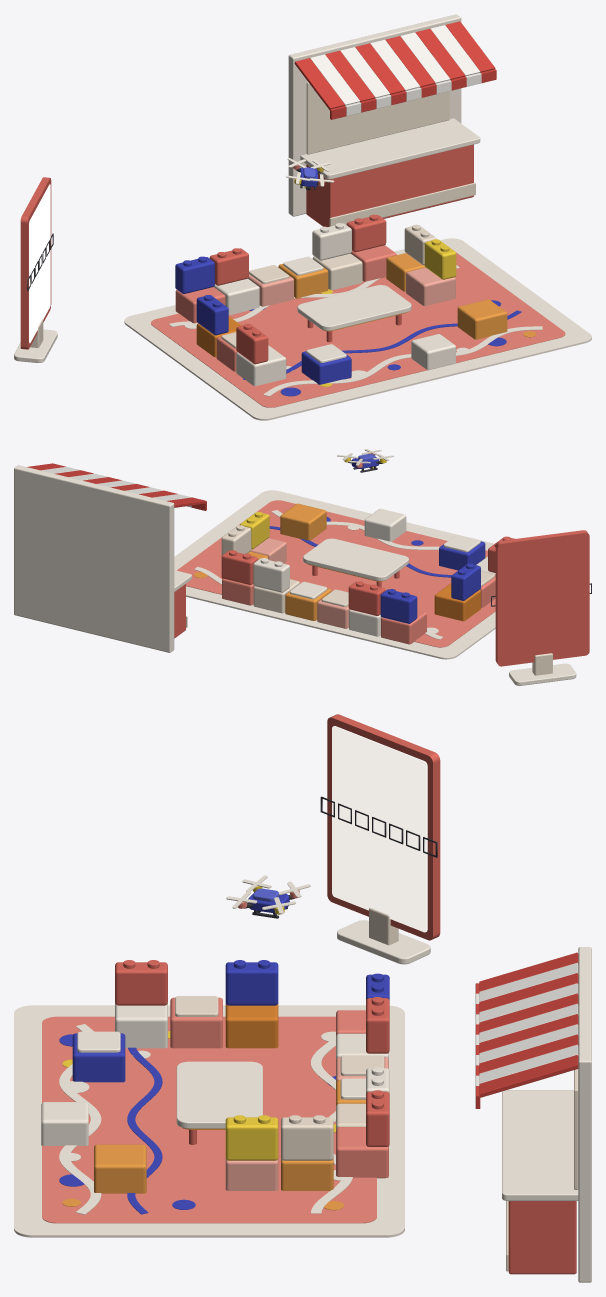
3 views of the same model, one above another, from view 1: azimuth 30°, elevation 25°; view 2: azimuth 150°, elevation 25°; view 3: azimuth 270°, elevation 25° (orthographic). The views are drawn at different scales.
Parts seen in each view (by area): view 1: Rug_Field.001, Rug_Base.001, Cafe_Counter.001, Cafe_BackPanel.001, Cafe_CounterTop.001, Cafe_Back.001, Tbl_Top.001, Scr_Panel.001, Scr_Frame.001, Cafe_Skirt.001, S_p2.001, E_s1.001 (+34 smaller); view 2: Cafe_Back.001, Scr_Frame.001, Rug_Field.001, Rug_Base.001, Tbl_Top.001, S_p2.001, W_s2.001, S_p1.001, N_b5.001, N_s0.001, N_b265.001, N_b70.001 (+19 smaller); view 3: Rug_Field.001, Rug_Base.001, Scr_Panel.001, Cafe_CounterTop.001, Tbl_Top.001, Scr_Frame.001, Cafe_Counter.001, Cafe_Back.001, S_p2.001, W_s2.001, N_s5.001, W_b2.001 (+32 smaller).
Boxes of the visible parts, x1,y1,x2,y2 form: Rug_Field.001: [151, 252, 565, 407]; Rug_Base.001: [124, 238, 591, 420]; Cafe_Counter.001: [306, 144, 473, 226]; Cafe_BackPanel.001: [306, 82, 449, 154]; Cafe_CounterTop.001: [300, 118, 480, 179]; Cafe_Back.001: [288, 14, 461, 216]; Tbl_Top.001: [297, 285, 411, 330]; Scr_Panel.001: [29, 184, 50, 343]; Scr_Frame.001: [20, 177, 51, 349]; Cafe_Skirt.001: [329, 182, 475, 226]; S_p2.001: [457, 299, 507, 339]; E_s1.001: [406, 267, 455, 305]; Cafe_Back.001: [14, 465, 174, 652]; Scr_Frame.001: [495, 530, 589, 666]; Rug_Field.001: [177, 500, 495, 647]; Rug_Base.001: [174, 490, 495, 659]; Tbl_Top.001: [303, 538, 408, 580]; S_p2.001: [280, 503, 326, 540]; W_s2.001: [434, 583, 480, 621]; S_p1.001: [364, 508, 406, 541]; N_b5.001: [380, 589, 417, 623]; N_s0.001: [381, 610, 426, 644]; N_b265.001: [253, 558, 289, 592]; N_b70.001: [348, 581, 385, 615]; Rug_Field.001: [42, 1016, 376, 1223]; Rug_Base.001: [14, 1005, 404, 1237]; Scr_Panel.001: [332, 726, 427, 932]; Cafe_CounterTop.001: [502, 1090, 578, 1200]; Tbl_Top.001: [176, 1061, 262, 1128]; Scr_Frame.001: [327, 714, 440, 940]; Cafe_Counter.001: [508, 1201, 576, 1274]; Cafe_Back.001: [578, 947, 591, 1282]; S_p2.001: [94, 1144, 146, 1193]; W_s2.001: [225, 1003, 278, 1048]; N_s5.001: [336, 1127, 388, 1178]; W_b2.001: [225, 962, 278, 1005].
Bounding box in the file's own units: 10.03 × 2.88 × 6.8.
